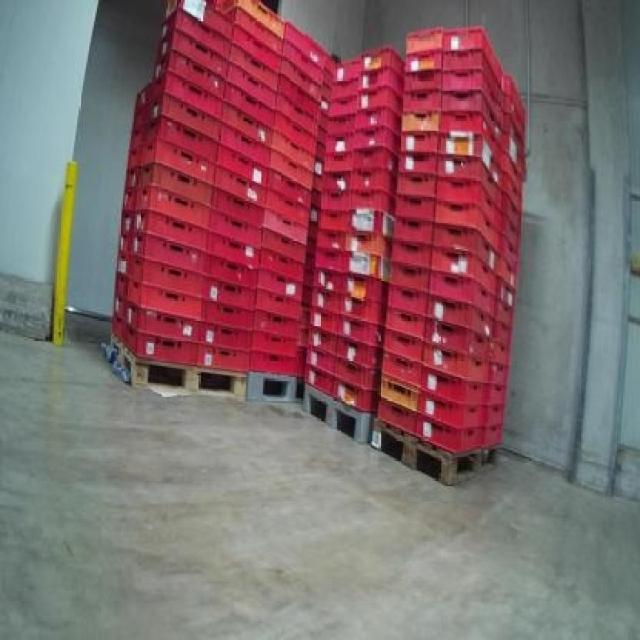floor: (0, 331, 637, 637)
pallets: (108, 0, 523, 480), (111, 0, 332, 398), (377, 25, 523, 457)
